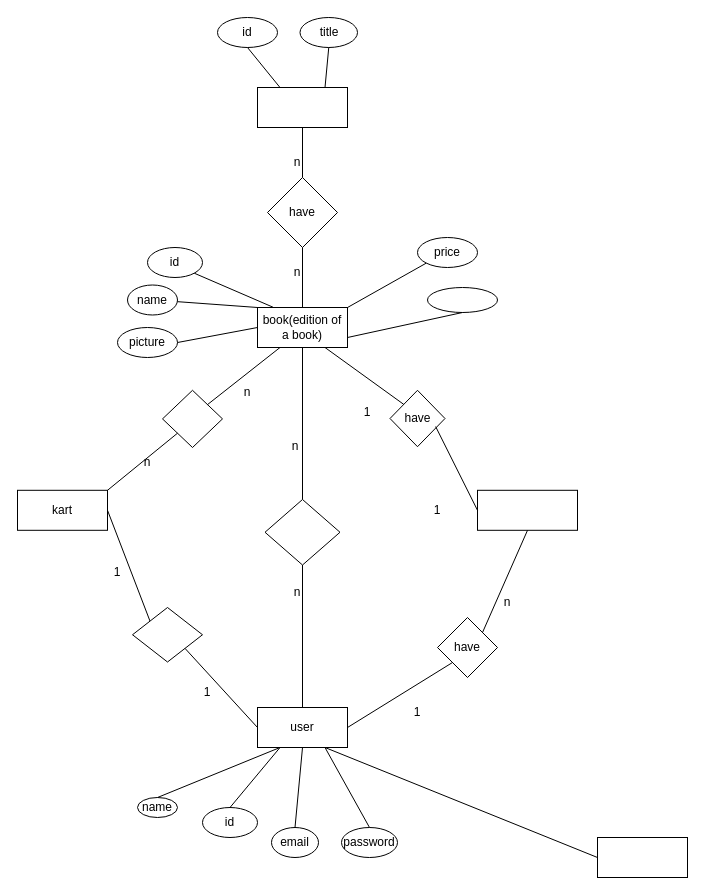
Image size: 705x895. Some labels were removed from this diagram. The shapes that lost their labels are listed below. From the top down, each one's centre as x and y in pixels, then its label:
the point at 302,107: category
the point at 462,299: description
the point at 192,418: added
the point at 527,509: favorite book
the point at 302,531: buy
the point at 167,634: have/buy
the point at 642,857: requests
